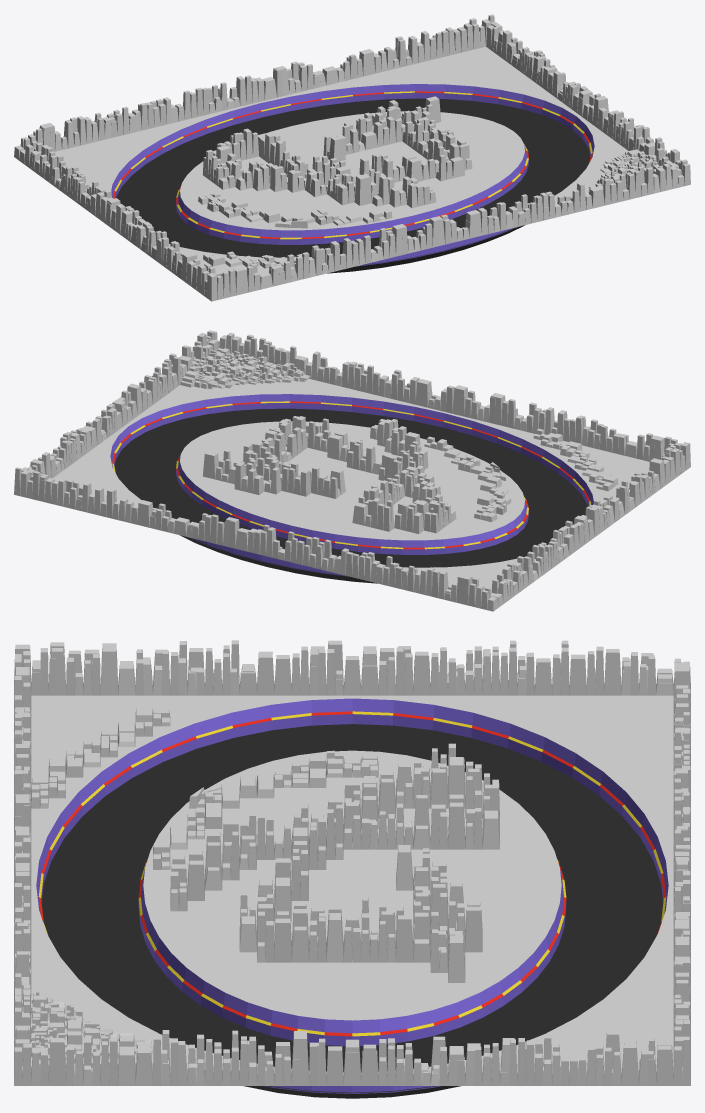
Rendered from M_track_2.glb.
The picture shows the model from 3 angles, top to bottom: view 1: azimuth 30°, elevation 25°; view 2: azimuth 150°, elevation 25°; view 3: azimuth 270°, elevation 25°; orthographic projection. The views are drawn at different scales.
Visible parts, largest first — view 1: discombobulated_mesh.001, Plane, discombobulated_mesh, Torus.002, Torus, discombobulated_mesh.002, discombobulated_mesh.005, discombobulated_mesh.003; view 2: discombobulated_mesh.001, Plane, discombobulated_mesh, Torus.002, Torus, discombobulated_mesh.005, discombobulated_mesh.002, discombobulated_mesh.003; view 3: Plane, discombobulated_mesh.001, Torus.002, discombobulated_mesh, Torus, discombobulated_mesh.002, discombobulated_mesh.003, discombobulated_mesh.005.
Part boxes in pixels (bbox=[...]): discombobulated_mesh.001: bbox=[24, 23, 690, 299]; Plane: bbox=[55, 47, 628, 273]; discombobulated_mesh: bbox=[14, 14, 680, 301]; Torus.002: bbox=[116, 98, 590, 265]; Torus: bbox=[111, 84, 594, 273]; discombobulated_mesh.002: bbox=[198, 193, 392, 228]; discombobulated_mesh.005: bbox=[585, 149, 662, 193]; discombobulated_mesh.003: bbox=[203, 251, 301, 268]; discombobulated_mesh.001: bbox=[28, 330, 685, 608]; Plane: bbox=[53, 379, 649, 592]; discombobulated_mesh: bbox=[14, 332, 690, 611]; Torus.002: bbox=[114, 408, 588, 575]; Torus: bbox=[110, 394, 593, 583]; discombobulated_mesh.005: bbox=[180, 348, 310, 388]; discombobulated_mesh.002: bbox=[424, 436, 511, 522]; discombobulated_mesh.003: bbox=[533, 428, 618, 491]; Plane: bbox=[31, 695, 673, 1074]; discombobulated_mesh.001: bbox=[14, 640, 690, 1085]; Torus.002: bbox=[41, 724, 663, 1093]; discombobulated_mesh: bbox=[14, 640, 690, 1085]; Torus: bbox=[36, 698, 668, 1098]; discombobulated_mesh.002: bbox=[153, 750, 378, 869]; discombobulated_mesh.003: bbox=[31, 706, 170, 808]; discombobulated_mesh.005: bbox=[30, 990, 153, 1074].
Bounding box in the file's own units: 28 × 3.09 × 20.
